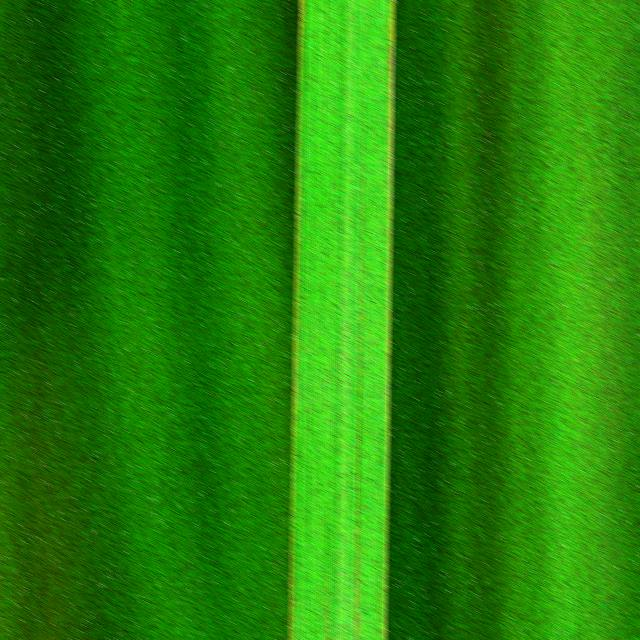BLS: (289, 0, 304, 640), (383, 0, 395, 640), (354, 595, 358, 640)
